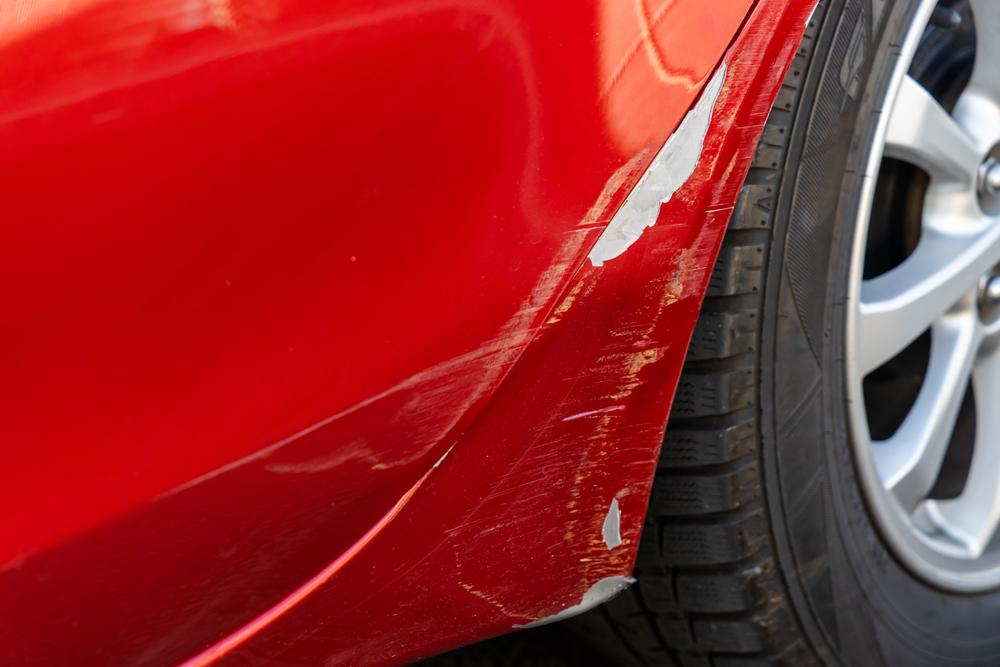scratch: (150, 0, 818, 629)
